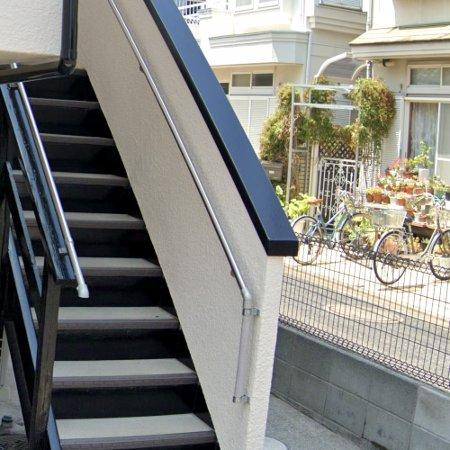stairs: (0, 70, 219, 450)
